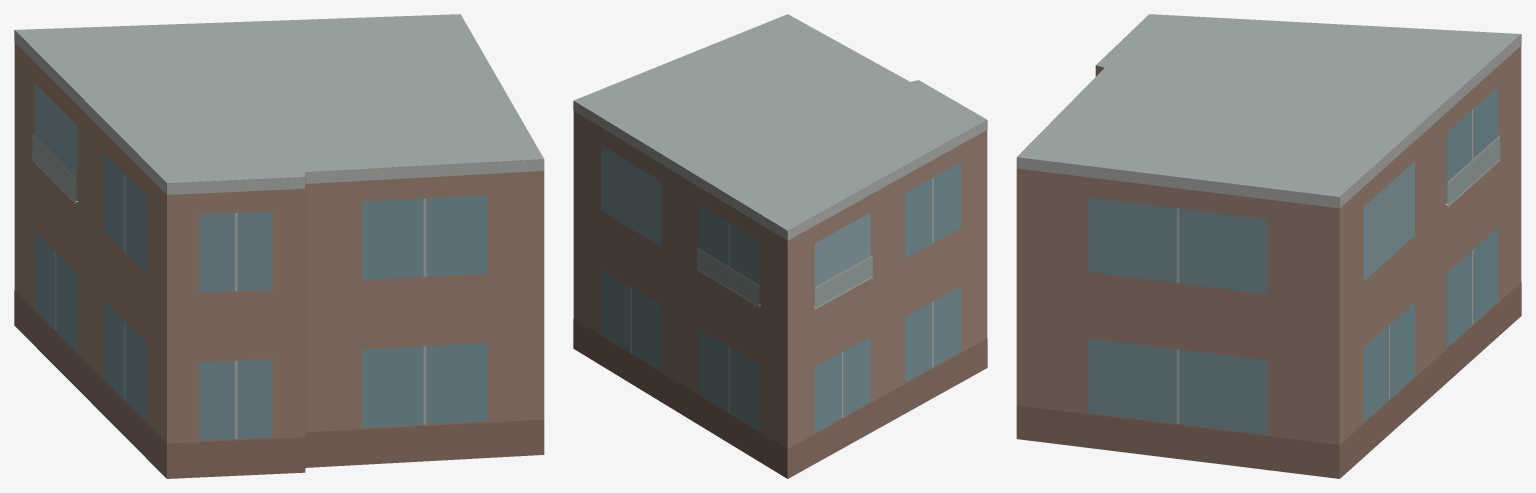
Rendered from survey-upis-32910797.glb.
3 views of the same model, side by side, from view 1: azimuth 30°, elevation 25°; view 2: azimuth 150°, elevation 25°; view 3: azimuth 270°, elevation 25° (orthographic). The views are drawn at different scales.
Visible parts, largest first — view 1: survey-upis-32910797.tmp; view 2: survey-upis-32910797.tmp; view 3: survey-upis-32910797.tmp.
Part boxes in pixels (left/top/right/bottom): survey-upis-32910797.tmp: left=14, top=14, right=544, bottom=478; survey-upis-32910797.tmp: left=573, top=14, right=987, bottom=478; survey-upis-32910797.tmp: left=1016, top=14, right=1521, bottom=478.
Bounding box in the file's own units: 8.51 × 6.1 × 9.92.
